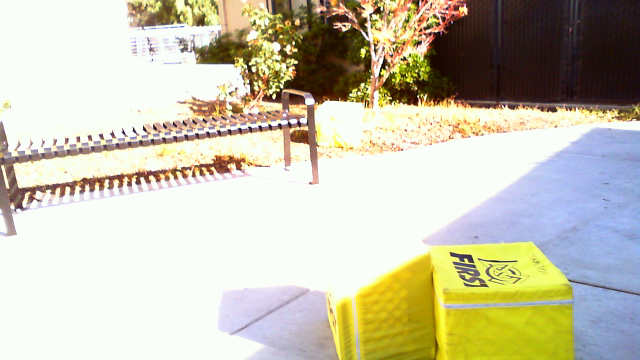cube: (424, 242, 577, 360), (317, 231, 438, 359)
